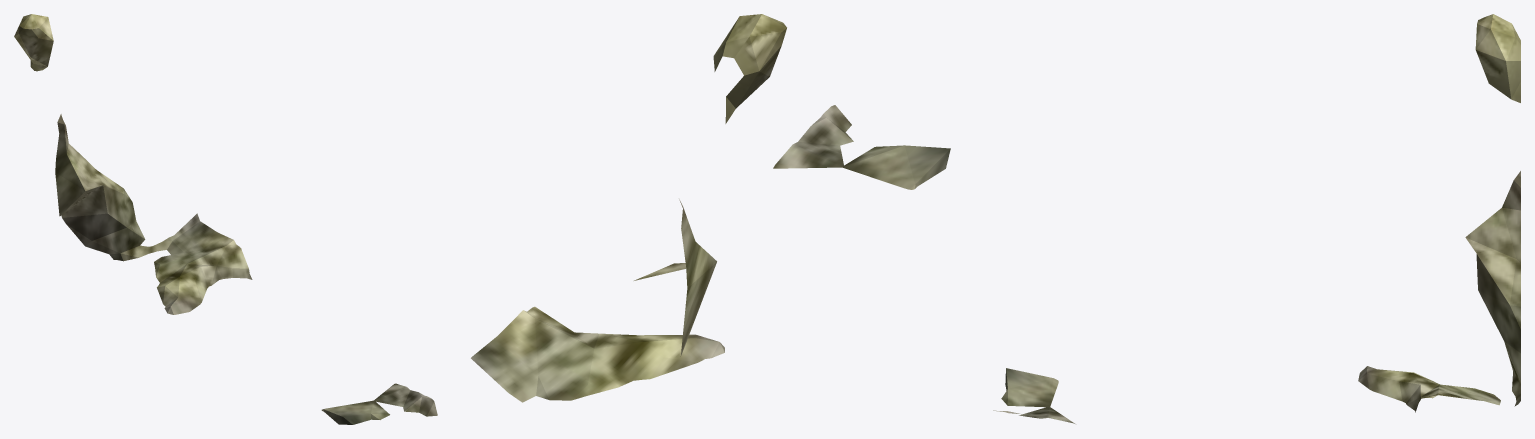
The picture shows the model from 3 angles, left to right: view 1: azimuth 30°, elevation 25°; view 2: azimuth 150°, elevation 25°; view 3: azimuth 270°, elevation 25°; orthographic projection. The views are drawn at different scales.
Bounding box in the file's own units: 2.13 × 2.97 × 4.66.
1 material, 1 textured.
